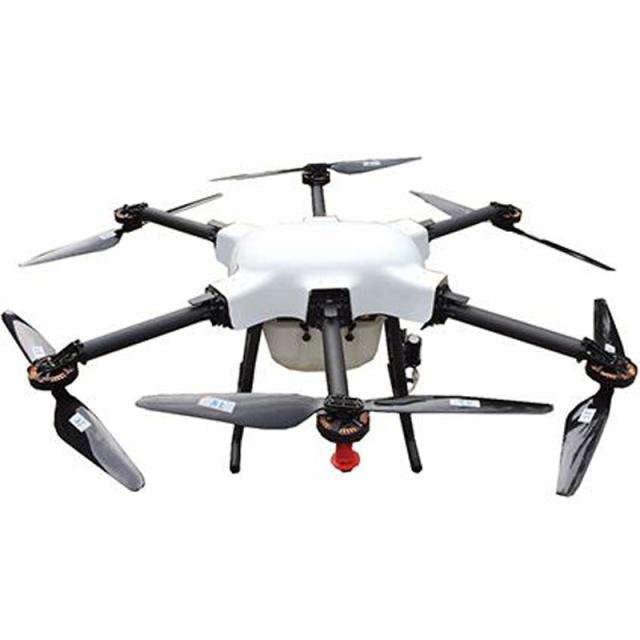drone: (20, 130, 640, 558)
